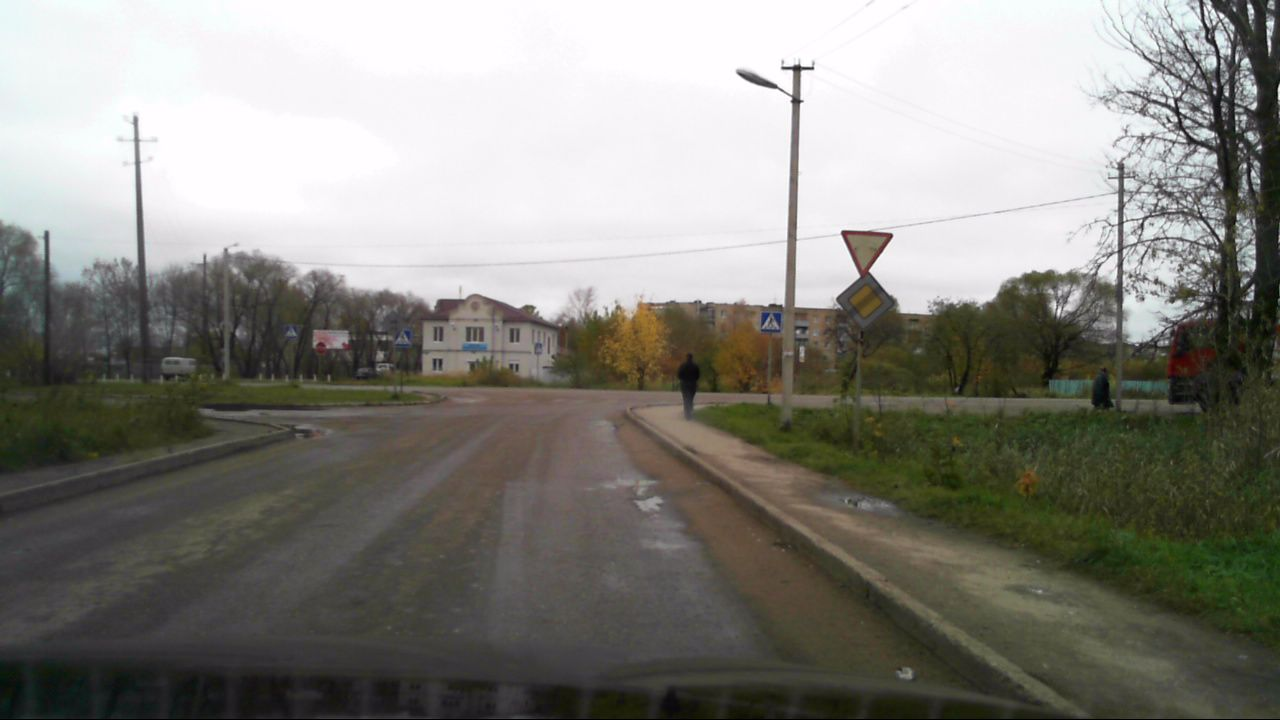main road: (836, 272, 894, 330)
